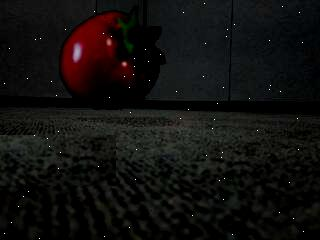Tomato: (56, 4, 168, 110)
